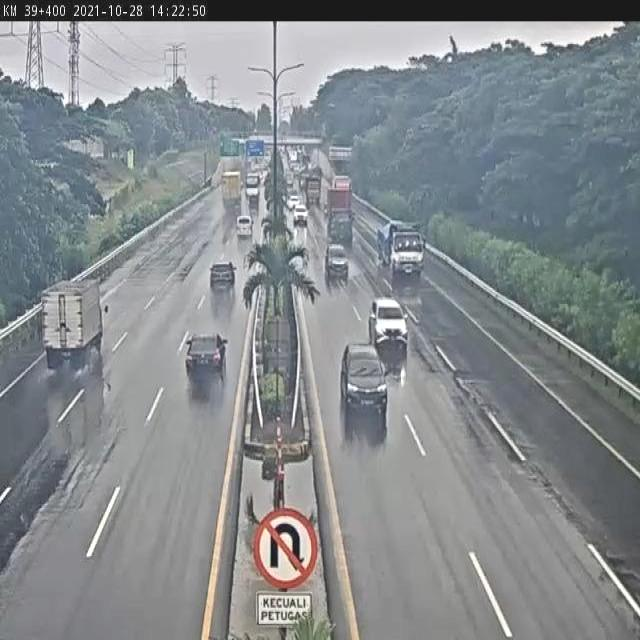Car: (340, 342, 389, 420), (368, 296, 410, 357), (185, 331, 228, 382), (324, 242, 350, 282), (210, 259, 237, 291), (236, 214, 255, 241), (293, 203, 308, 226)
Truck: (39, 280, 110, 374), (376, 219, 428, 280), (327, 190, 352, 244), (300, 168, 324, 205), (220, 171, 242, 211), (326, 174, 355, 204)
